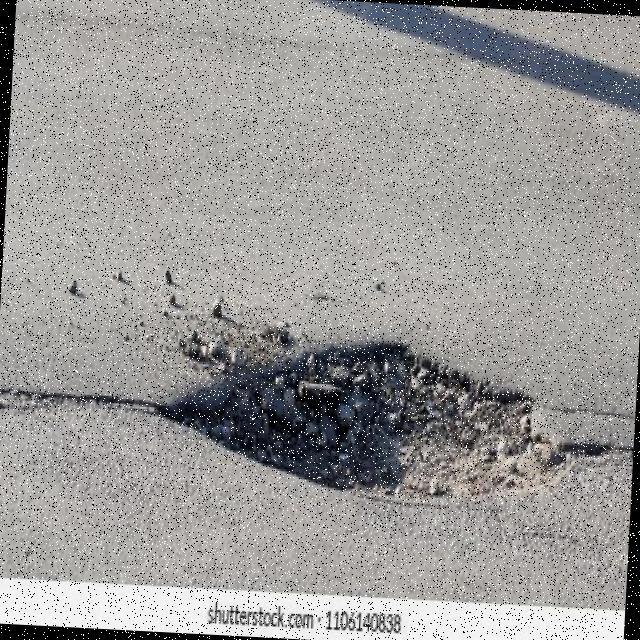Pothole: (8, 336, 587, 501)
